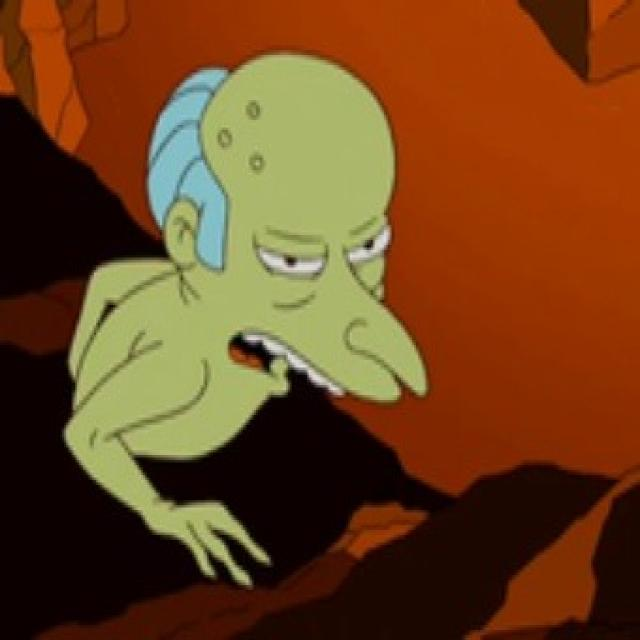Charles Montgomery Burns: (141, 46, 431, 439)
